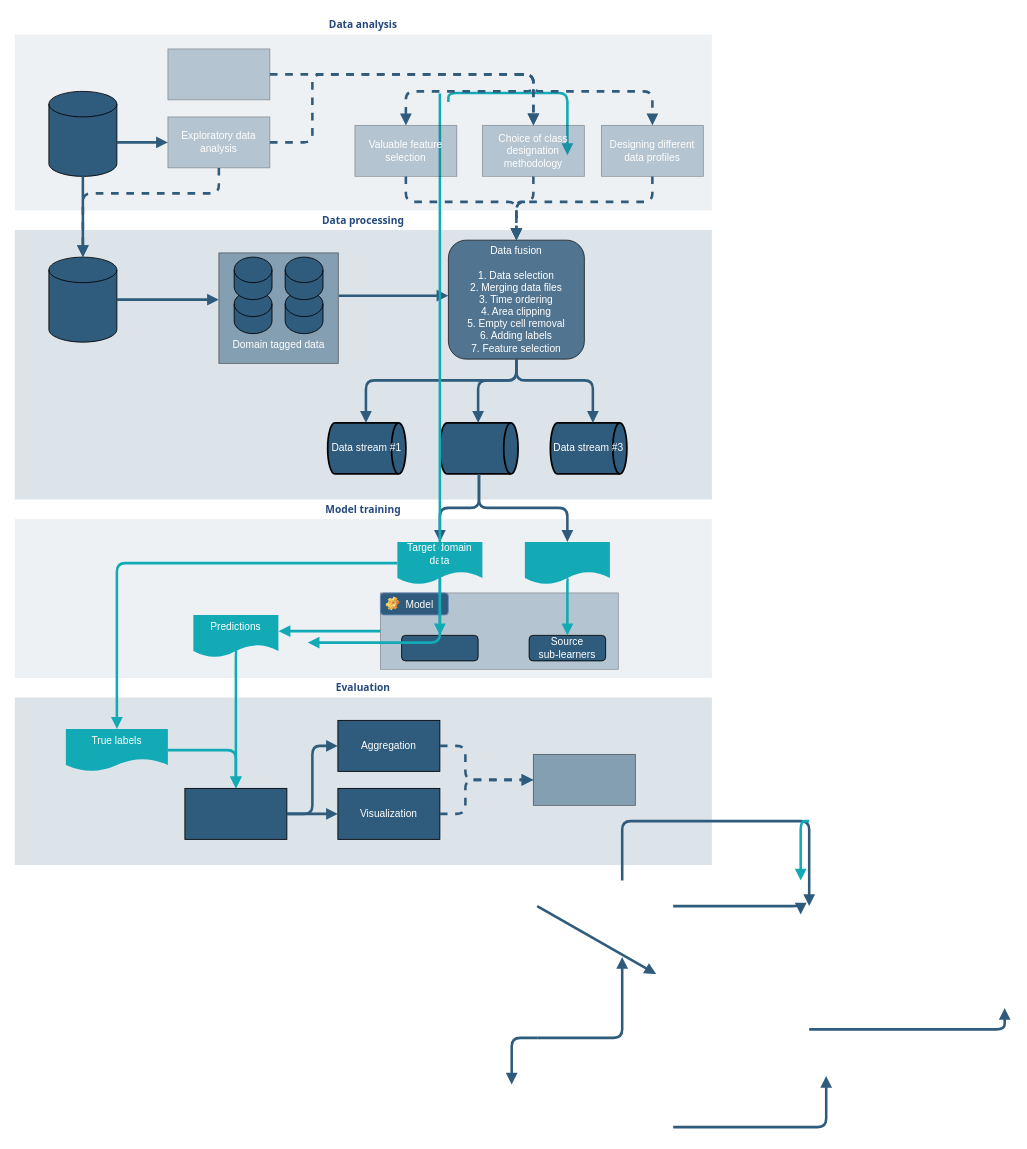
Image size: 1027x1149. Some labels were removed from this diagram. Each missing label, with the centre of its shape:
"Available methods exploration" goes at (218,74).
"Data stream #2" goes at (478,448).
"Method comparison" goes at (584,779).
"Past and future delay retrieval" goes at (82,299).
"Performance evaluation" goes at (235,813).
"Source domain data" goes at (566,562).
"Target sub-learner" goes at (439,648).
"ZTM data" goes at (82,133).
